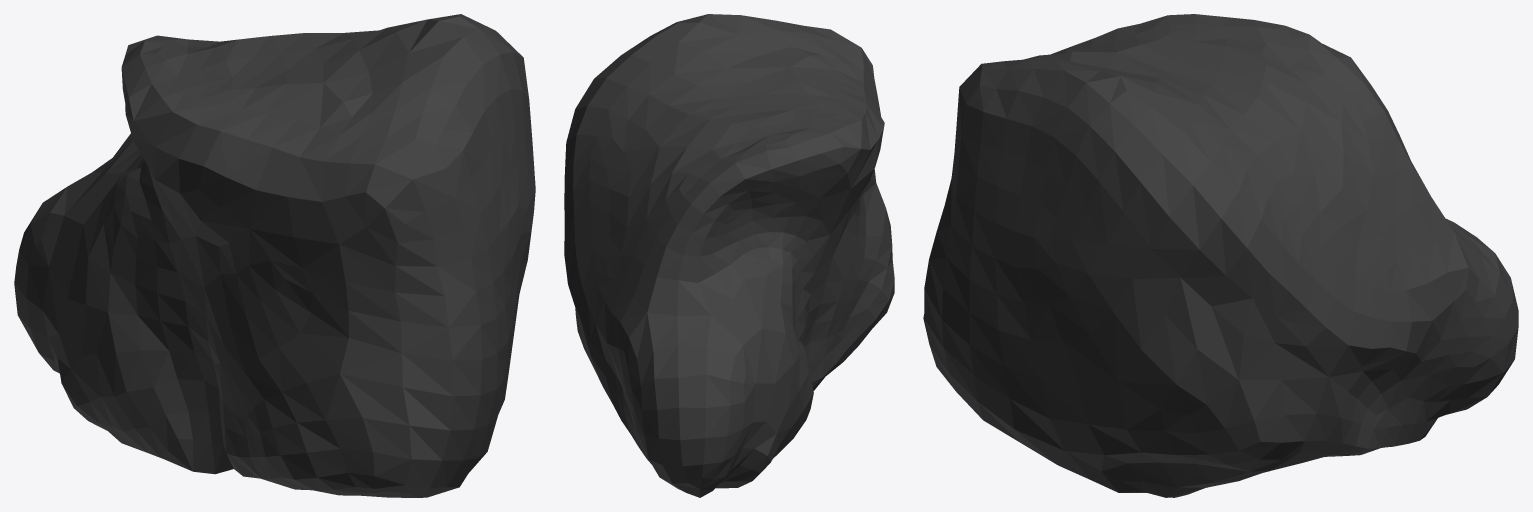
File: Fourth_carpal.glb
The picture shows the model from 3 angles, left to right: view 1: azimuth 30°, elevation 25°; view 2: azimuth 150°, elevation 25°; view 3: azimuth 270°, elevation 25°; orthographic projection. The views are drawn at different scales.
Visible parts, largest first — view 1: Fourth_carpal; view 2: Fourth_carpal; view 3: Fourth_carpal.
Boxes of the visible parts, x1,y1,x2,y2 form: Fourth_carpal: (14, 14, 535, 497); Fourth_carpal: (564, 14, 894, 497); Fourth_carpal: (923, 14, 1518, 497).
Bounding box in the file's own units: 23.27 × 27.91 × 34.76.
1 material, 1 textured.
